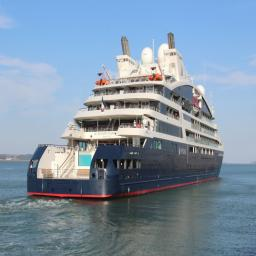cruises: (26, 25, 227, 205)
